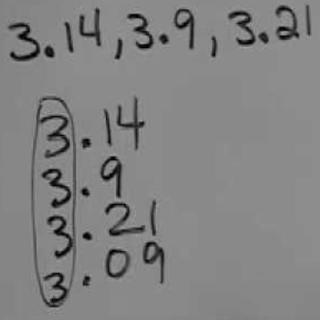.: (42, 42, 57, 59), (257, 29, 271, 47), (78, 273, 94, 288), (157, 31, 171, 47), (79, 136, 93, 151), (78, 184, 92, 199), (81, 228, 93, 243)
0: (104, 246, 132, 280)
1: (100, 106, 115, 148), (61, 19, 77, 56), (302, 1, 314, 38), (149, 199, 159, 237)
2: (103, 200, 147, 237), (274, 2, 303, 42)
3: (7, 18, 41, 63), (226, 9, 257, 48), (126, 11, 154, 52)
4: (113, 95, 149, 153), (77, 7, 105, 49)
9: (142, 240, 168, 286), (99, 154, 125, 199), (173, 6, 198, 51)
